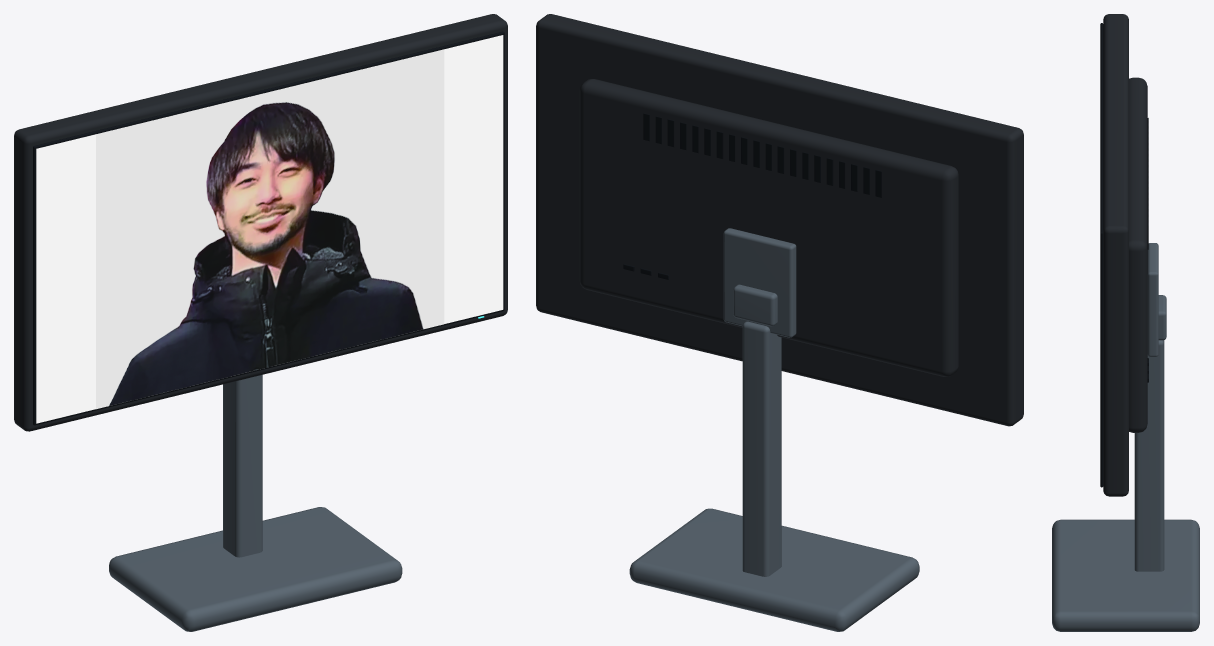
The model's file is okayaman_monitor.glb.
3 renders of one model, left to right at view 1: azimuth 30°, elevation 25°; view 2: azimuth 150°, elevation 25°; view 3: azimuth 270°, elevation 25°, orthographic. The views are drawn at different scales.
Visible parts, largest first — view 1: Okayaman canonical photograph, Display full surface, Pedestal foot, Housing, Stand column, Panel black surround; view 2: Rear electronics enclosure, Housing, Pedestal foot, Stand column, Rear VESA mounting plate, Stand neck; view 3: Pedestal foot, Housing, Rear electronics enclosure, Stand column, Panel black surround, Rear VESA mounting plate, Stand neck.
Part boxes in pixels (x1,y1,x2,y2): Okayaman canonical photograph: (96, 49, 444, 409); Display full surface: (36, 35, 503, 423); Pedestal foot: (109, 507, 402, 631); Housing: (14, 14, 507, 431); Stand column: (223, 375, 262, 557); Panel black surround: (33, 31, 504, 425); Rear electronics enclosure: (579, 79, 958, 376); Housing: (536, 14, 1023, 426); Pedestal foot: (629, 508, 919, 631); Stand column: (742, 321, 781, 576); Rear VESA mounting plate: (723, 228, 796, 337); Stand neck: (733, 284, 777, 326); Pedestal foot: (1052, 519, 1199, 631); Housing: (1103, 14, 1128, 496); Rear electronics enclosure: (1129, 77, 1147, 432); Stand column: (1134, 340, 1164, 571); Panel black surround: (1100, 23, 1103, 487); Rear VESA mounting plate: (1147, 243, 1158, 356); Stand neck: (1158, 295, 1166, 340).
Bounding box in the file's own units: 2.08 × 2.09 × 0.6.
Materials: 6 (1 with a texture image).
